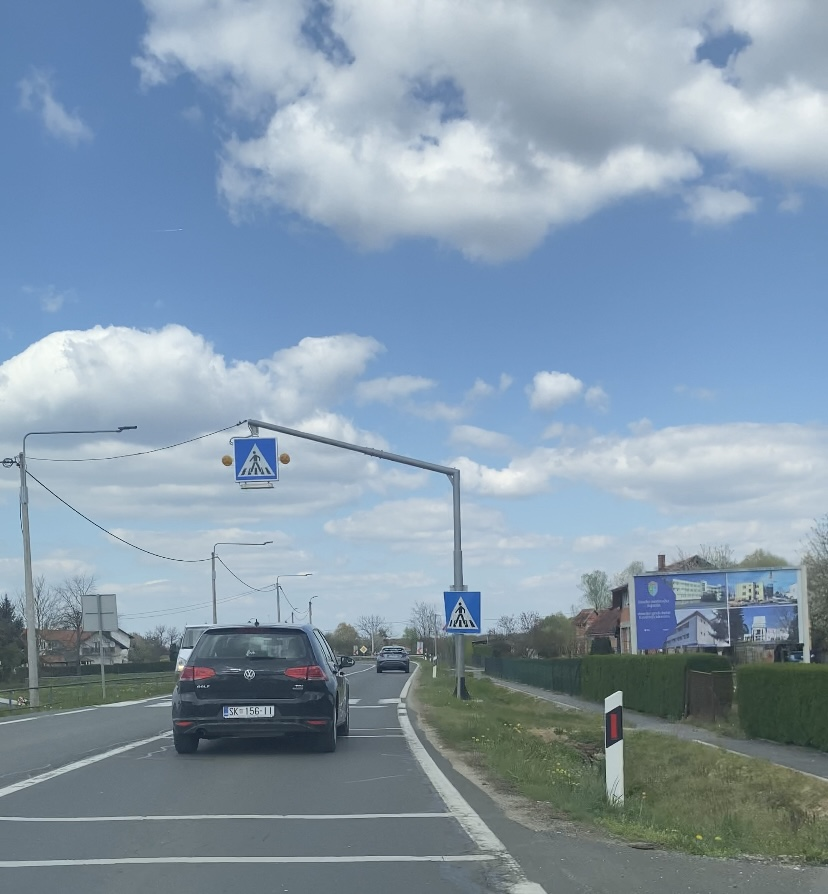Pješački prijelaz: (234, 438, 278, 479), (443, 591, 481, 631)
